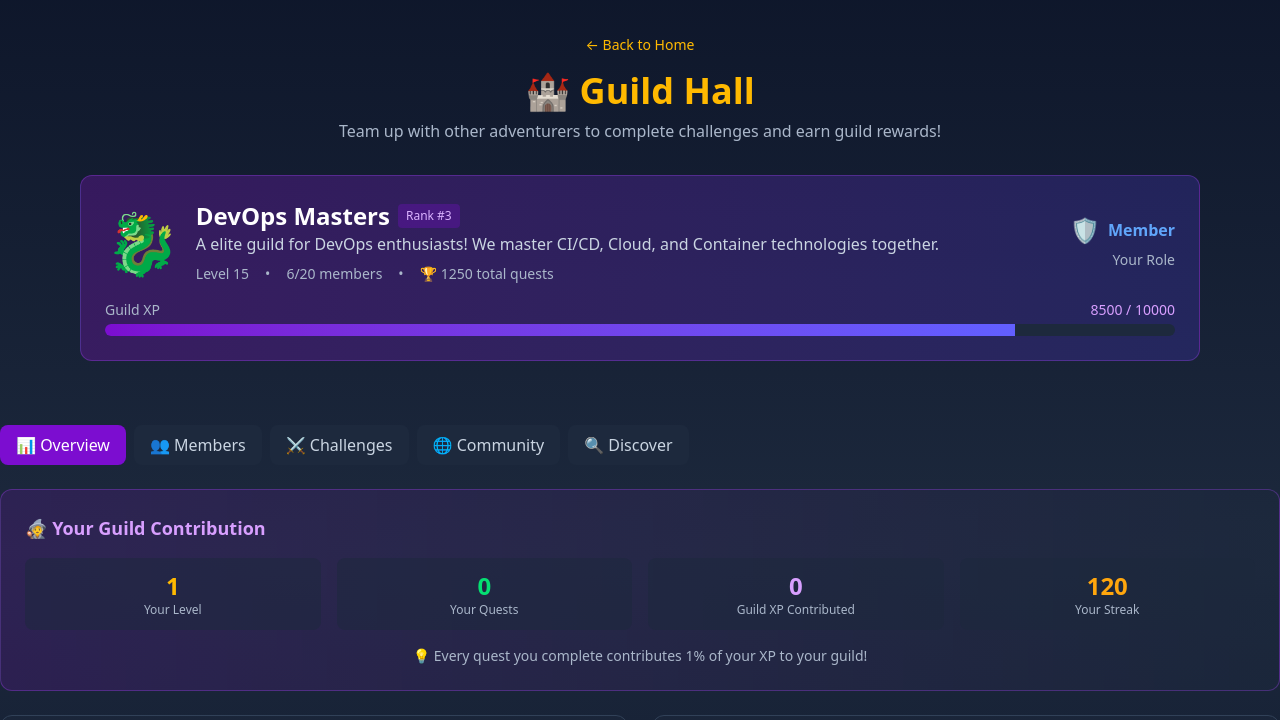
it: GuildPage › marks community goals complete once the player clears their targets
Click the button "🌐 Community".
click(488, 445)  # box left=416, top=425, right=560, bottom=465
(page scrolled)
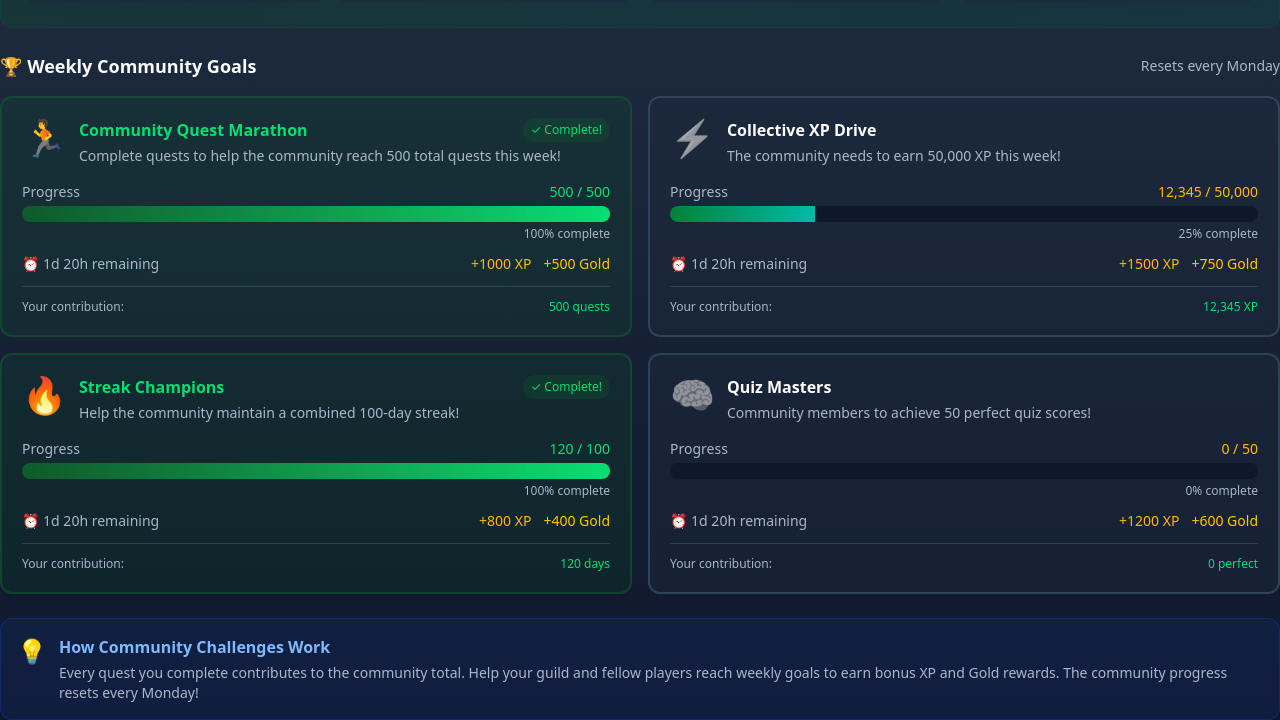
Check: the text "✓ Complete!" is shown 2 times, box left=523, top=118, right=610, bottom=142; left=523, top=375, right=610, bottom=399
Check: the text "100% complete" is shown 2 times, box left=524, top=225, right=610, bottom=242; left=524, top=482, right=610, bottom=499
Check: the text "500 / 500" is shown, box left=549, top=182, right=610, bottom=202
